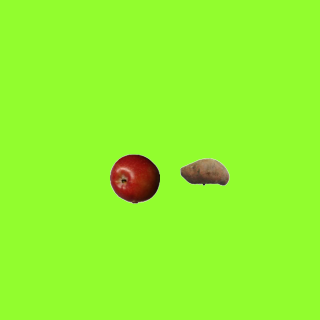Apple Braeburn: (109, 153, 159, 203)
Potato Sweet: (179, 146, 229, 196)
